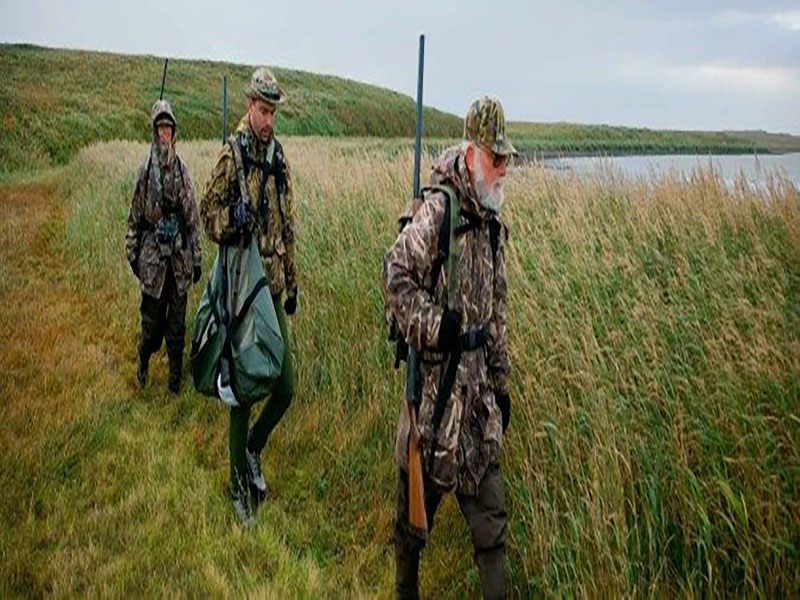cacciatore: (384, 35, 534, 598), (205, 60, 308, 512), (124, 95, 202, 396)
